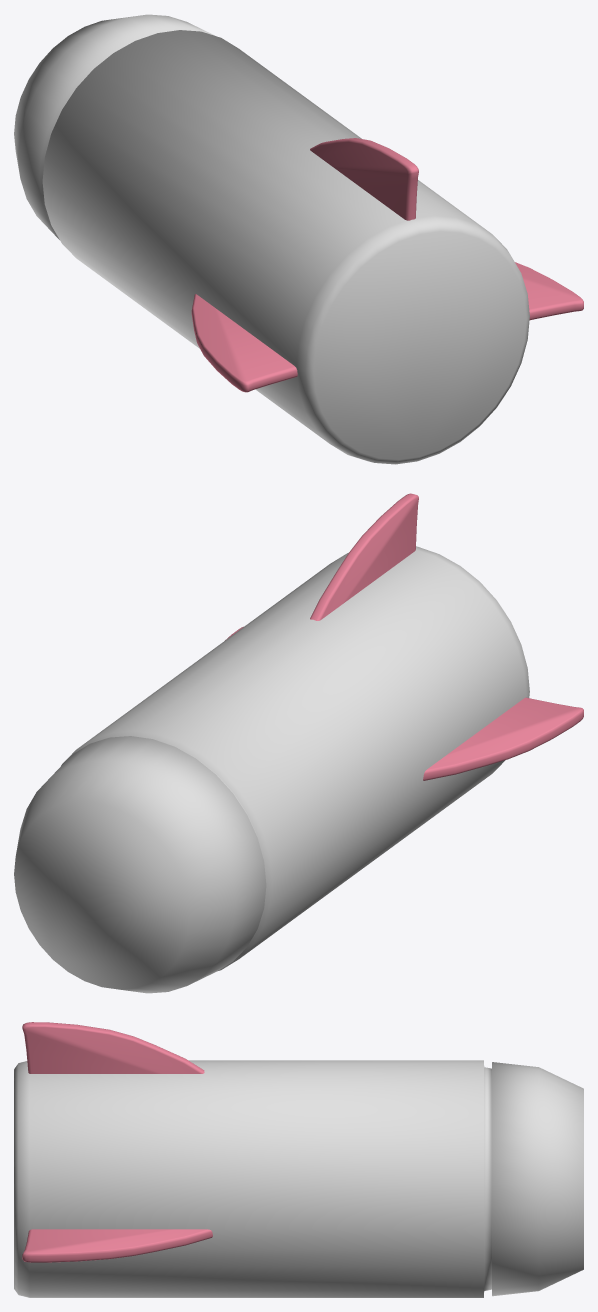
File: Plunger.fbx
3 renders of one model, top to bottom at view 1: azimuth 30°, elevation 25°; view 2: azimuth 150°, elevation 25°; view 3: azimuth 270°, elevation 25°, orthographic. The views are drawn at different scales.
Visible parts, largest first — view 1: Circle.007; view 2: Circle.007; view 3: Circle.007.
Boxes of the visible parts, bbox=[...] form: Circle.007: bbox=[14, 14, 583, 464]; Circle.007: bbox=[14, 493, 583, 993]; Circle.007: bbox=[14, 1022, 583, 1297].
Size of the model in its own units: 206 by 169 by 331.
